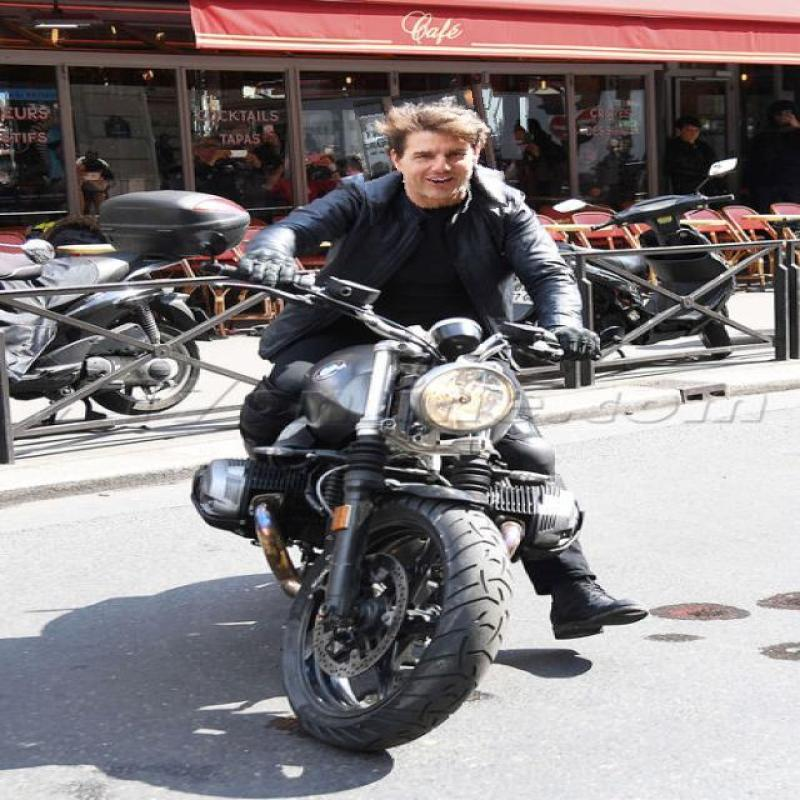nohelmet: (357, 86, 505, 222)
